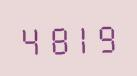eight: (43, 20, 67, 56)
four: (18, 21, 42, 56)
nine: (93, 19, 117, 54)
one: (68, 20, 92, 55)
